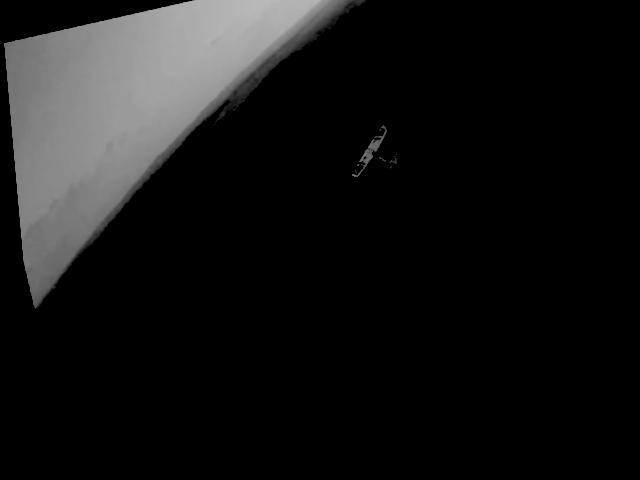hedef: (335, 119, 410, 200)
